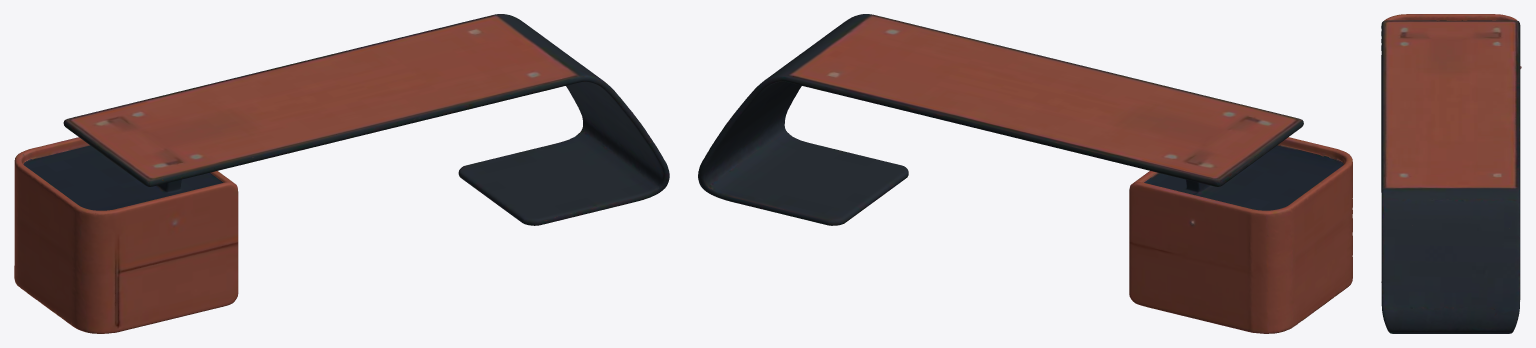
3 views of the same model, side by side, from view 1: azimuth 30°, elevation 25°; view 2: azimuth 150°, elevation 25°; view 3: azimuth 270°, elevation 25° (orthographic). The views are drawn at different scales.
Parts seen in each view (by area): view 1: world; view 2: world; view 3: world.
Boxes of the visible parts, left/top/right/bottom form: world: left=14, top=14, right=669, bottom=333; world: left=698, top=14, right=1352, bottom=333; world: left=1381, top=14, right=1521, bottom=333.
Size of the model in its own units: 1 by 0.2407 by 0.2613.
Materials: 1 (1 with a texture image).
